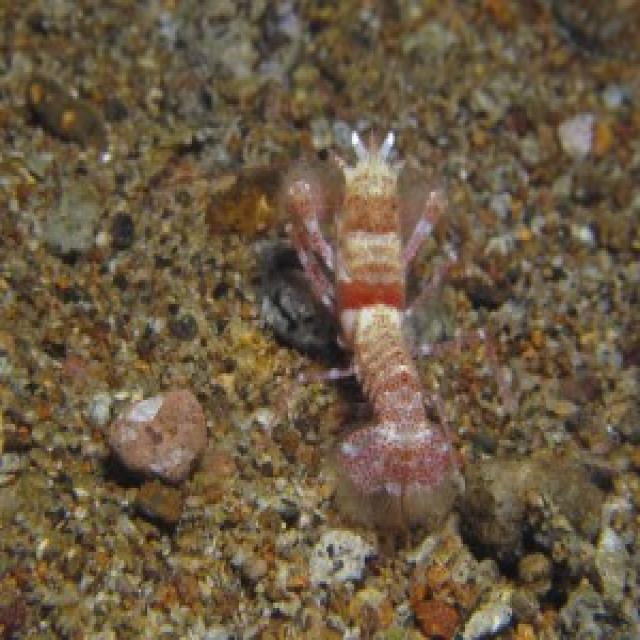lobsters: (171, 76, 564, 551)
